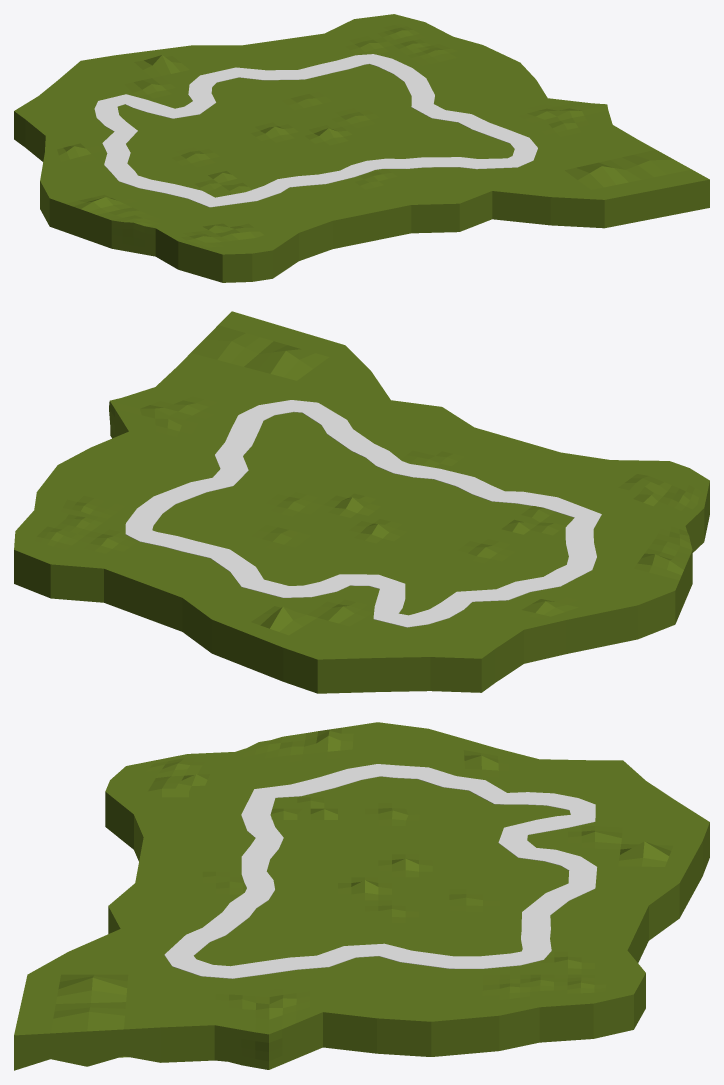
File: planobase.fbx
The picture shows the model from 3 angles, top to bottom: view 1: azimuth 30°, elevation 25°; view 2: azimuth 150°, elevation 25°; view 3: azimuth 270°, elevation 25°; orthographic projection. The views are drawn at different scales.
Parts seen in each view (by area): view 1: Cube.092, Cube.069; view 2: Cube.092, Cube.069; view 3: Cube.092, Cube.069.
Boxes of the visible parts, left/top/right/bottom form: Cube.092: left=14, top=14, right=709, bottom=282; Cube.069: left=94, top=54, right=537, bottom=207; Cube.092: left=14, top=311, right=709, bottom=693; Cube.069: left=125, top=400, right=601, bottom=627; Cube.092: left=14, top=722, right=709, bottom=1070; Cube.069: left=164, top=764, right=597, bottom=978.
Bounding box in the file's own units: 22210 × 1647 × 20853.
